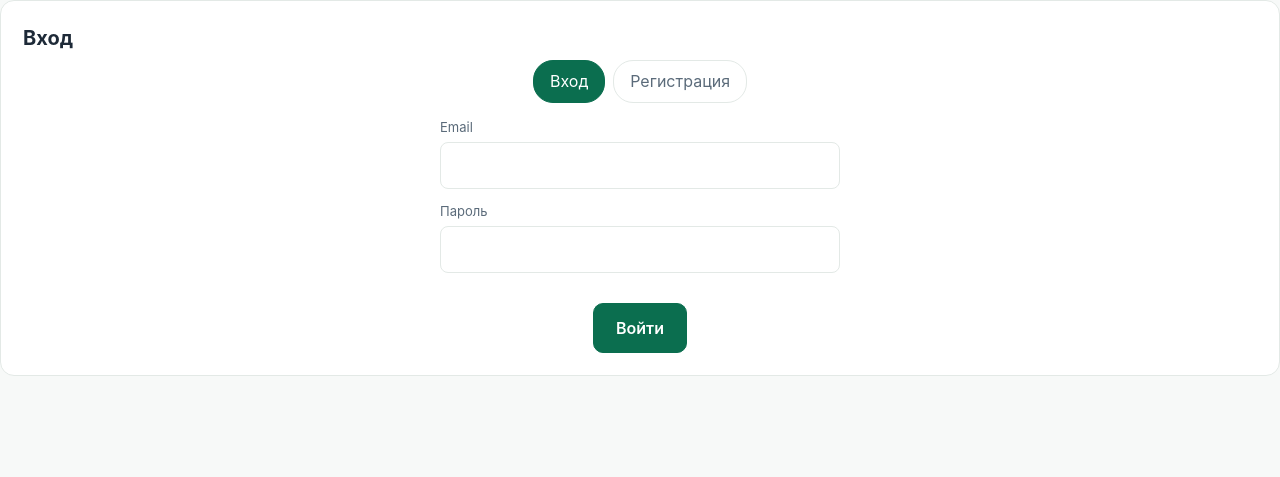
Test: AuthForm › error shows
In the field labelled "Email": (640, 165) 440,142 -> 840,189, type "a@ex.ru"
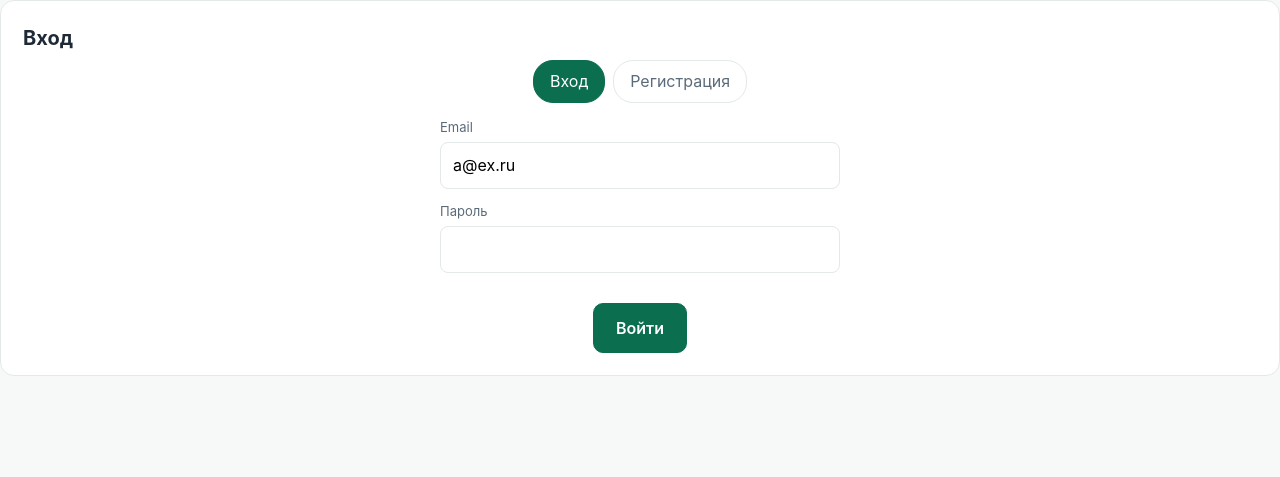
In the password field labelled "Пароль": (640, 249) 440,226 -> 840,273, type "p"
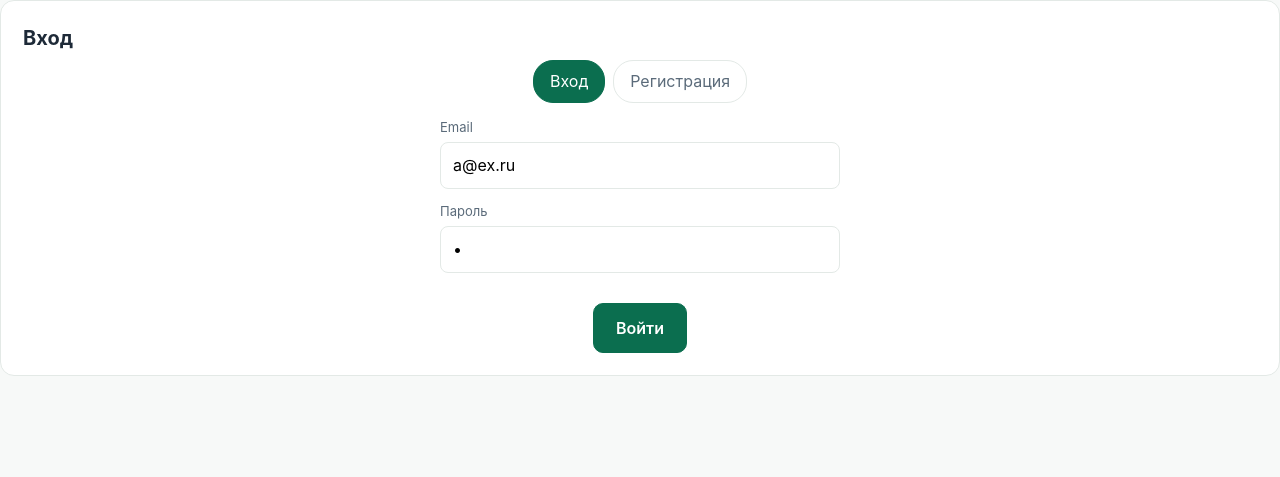
Click the button "Войти": (640, 328) 593,303 -> 687,354
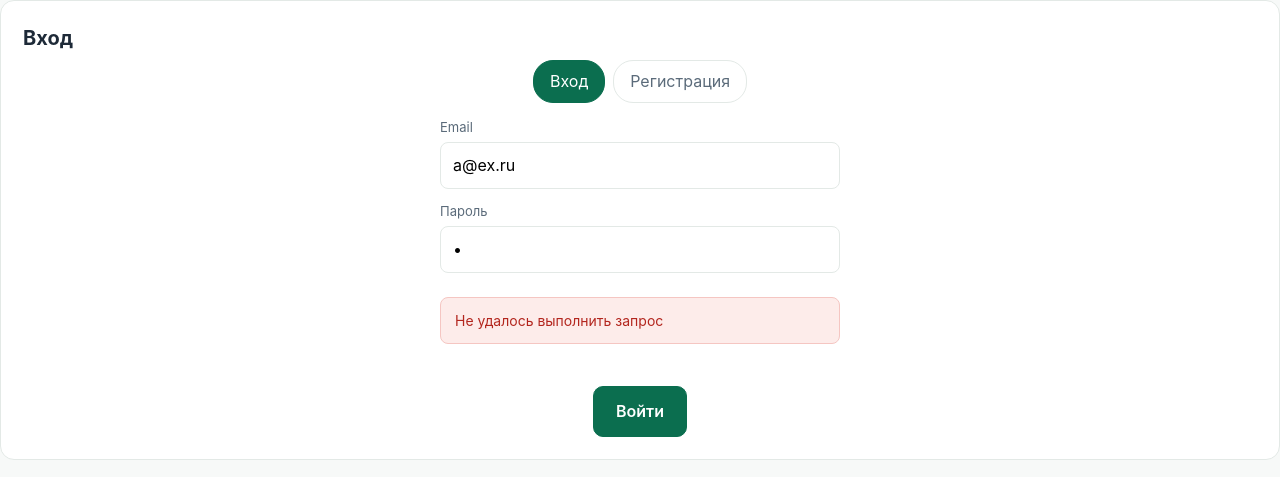
Expected: the text "Не удалось выполнить запрос" is shown, 440,297 -> 840,344
